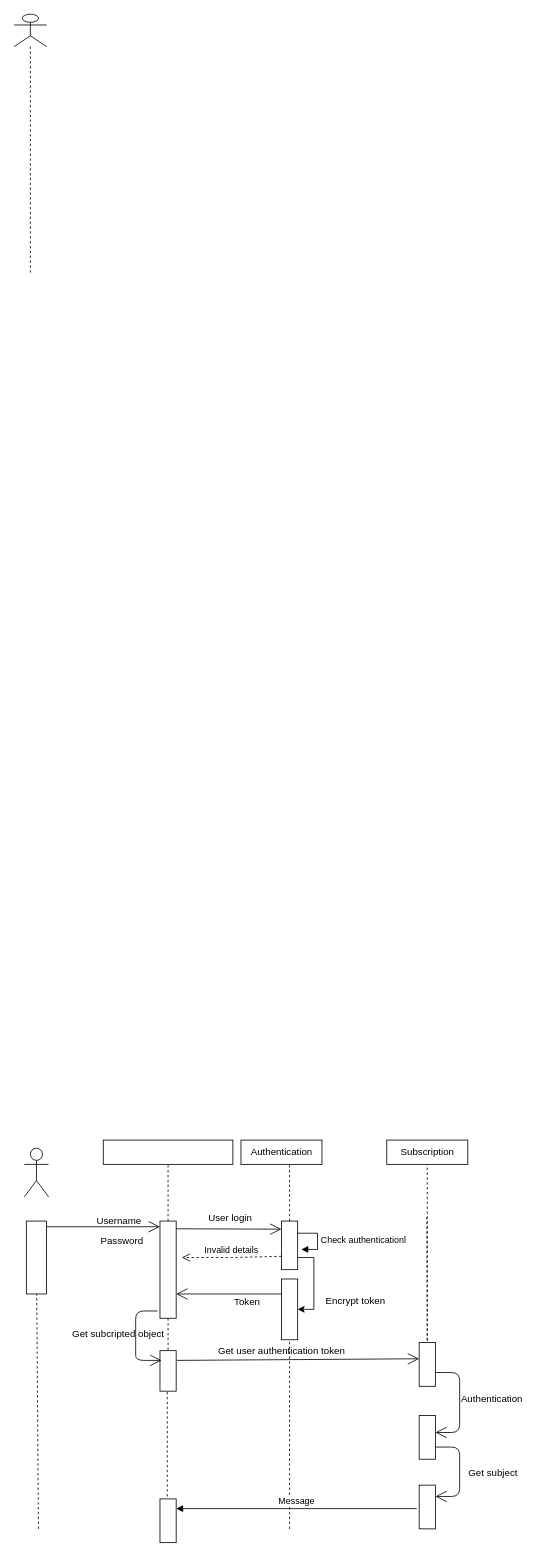
Some shapes in this 547 by 1557 pixel diagram are drawn without their labels. The centre of each missing label's shape, as x and y in pixels:
"Any user" goes at pixel 36 1172.
"Management System" goes at pixel 167 1151.
